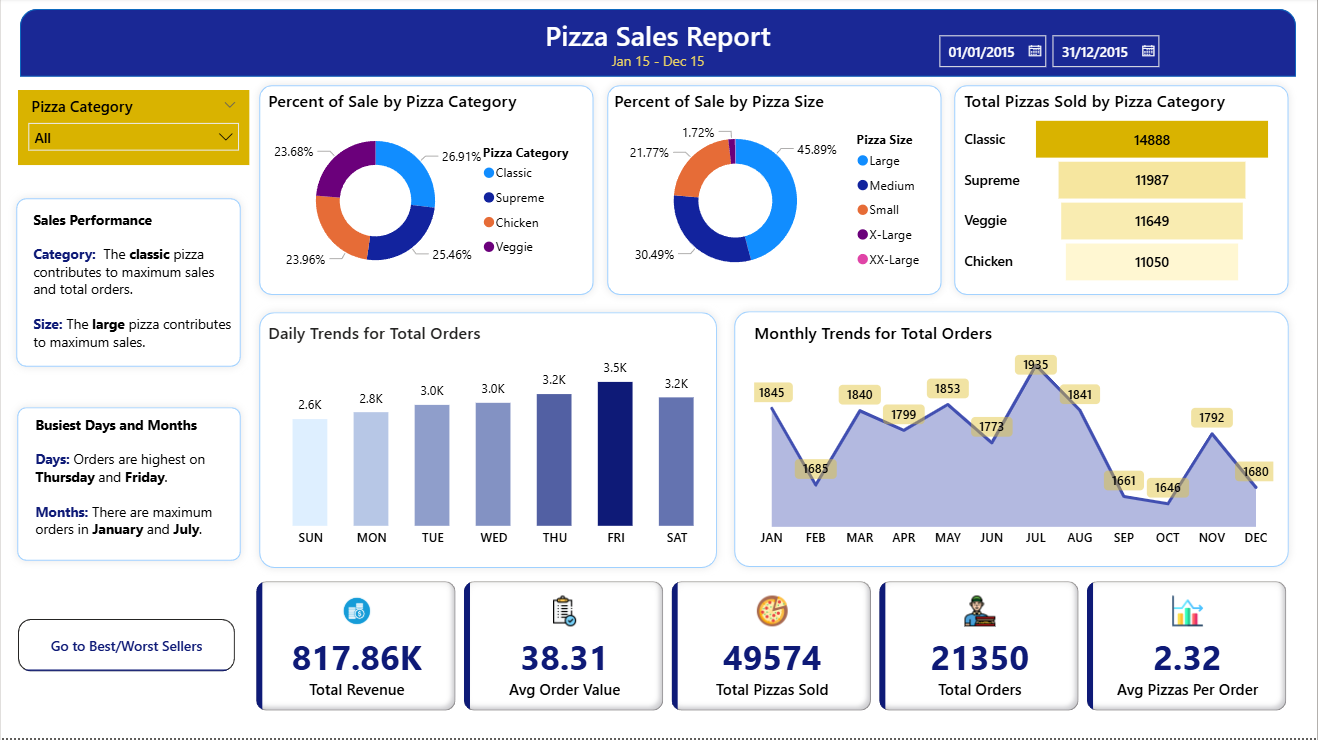

The dashboard page shown, as its layout file describes it:
{"tool":"powerbi","page":{"name":"Go to Home Page","canvas":[1280,720],"ordinal":0},"visuals":[{"type":"cardVisual","fields":{"Data":["pizza_sales.Total Revenue","pizza_sales.Avg Order Value","pizza_sales.Total Pizzas Sold","pizza_sales.Total Orders","pizza_sales.Avg Pizzas Per Order"]},"box":[243.5,562.4,1016.5,136.5],"z":0},{"type":"shape","box":[18.8,10.6,1241.2,65.9],"z":1000},{"type":"textbox","box":[512.9,12.9,252.9,52.9],"z":2000},{"type":"textbox","box":[574.1,47.1,130.6,36.5],"z":3000},{"type":"shape","box":[243.5,297.6,461.2,264.7],"z":4000},{"type":"columnChart","title":"Daily Trends for Total Orders","fields":{"Category":["pizza_sales.Order Day"],"Y":["pizza_sales.Total Orders"]},"box":[255.3,315.3,449.4,228.2],"z":5000},{"type":"shape","box":[704.7,296.5,555.3,264.7],"z":6000},{"type":"areaChart","title":"Monthly Trends for Total Orders","fields":{"Category":["pizza_sales.Order Month"],"Y":["pizza_sales.Total Orders"]},"box":[727.1,315.3,515.3,228.2],"z":7000},{"type":"shape","box":[243.5,76.5,341.2,220],"z":8000},{"type":"shape","box":[581.2,76.5,341.2,220],"z":9000},{"type":"shape","box":[918.8,76.5,341.2,220],"z":10000},{"type":"donutChart","title":"Percent of Sale by Pizza Category","fields":{"Category":["pizza_sales.pizza_category"],"Y":["pizza_sales.Total Revenue"]},"box":[255.3,89.4,318.8,194.1],"z":11000},{"type":"donutChart","title":"Percent of Sale by Pizza Size","fields":{"Category":["pizza_sales.pizza_size"],"Y":["pizza_sales.Total Revenue"]},"box":[591.8,89.4,318.8,194.1],"z":12000},{"type":"funnel","title":"Total Pizzas Sold by Pizza Category","fields":{"Y":["pizza_sales.Total Pizzas Sold"],"Category":["pizza_sales.pizza_category"]},"box":[931.8,89.4,310.6,194.1],"z":13000},{"type":"shape","box":[7.8,390,233.4,165.3],"z":14000},{"type":"textbox","box":[28.2,400.7,203.3,143],"z":15000},{"type":"shape","box":[6.8,186.7,234.4,179.9],"z":16000},{"type":"textbox","box":[26.3,201.3,203.3,165.3],"z":17000},{"type":"slicer","fields":{"Values":["pizza_sales.pizza_category"]},"box":[16.5,89.5,224.7,72.9],"z":18000},{"type":"slicer","fields":{"Values":["pizza_sales.order_date"]},"box":[900,25.9,237.6,50.6],"z":19000},{"type":"pageNavigator","box":[16.5,604,211.1,51.6],"z":19001}]}

Visuals, with their boxes in screenshot pixels (x1, y1, x2, y2), scaled from the page's 1280x720 canvas onto the 1318x740 screenshot:
cardVisual - pizza_sales.Total Revenue x pizza_sales.Avg Order Value: 251,578,1297,718
shape: 19,11,1297,79
textbox: 528,13,789,68
textbox: 591,48,726,86
shape: 251,306,726,578
"Daily Trends for Total Orders" columnChart: 263,324,726,559
shape: 726,305,1297,577
"Monthly Trends for Total Orders" areaChart: 749,324,1279,559
shape: 251,79,602,305
shape: 598,79,950,305
shape: 946,79,1297,305
"Percent of Sale by Pizza Category" donutChart: 263,92,591,291
"Percent of Sale by Pizza Size" donutChart: 609,92,938,291
"Total Pizzas Sold by Pizza Category" funnel: 959,92,1279,291
shape: 8,401,248,571
textbox: 29,412,238,559
shape: 7,192,248,377
textbox: 27,207,236,377
slicer - pizza_sales.pizza_category: 17,92,248,167
slicer - pizza_sales.order_date: 927,27,1171,79
pageNavigator: 17,621,234,674
